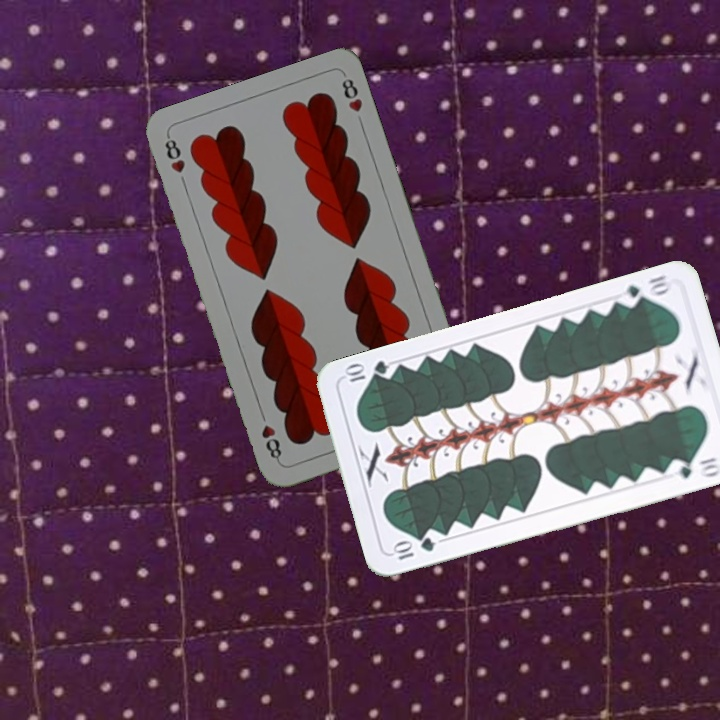G10: (615, 270, 673, 310), (389, 533, 438, 563)
H8: (160, 132, 188, 176)
